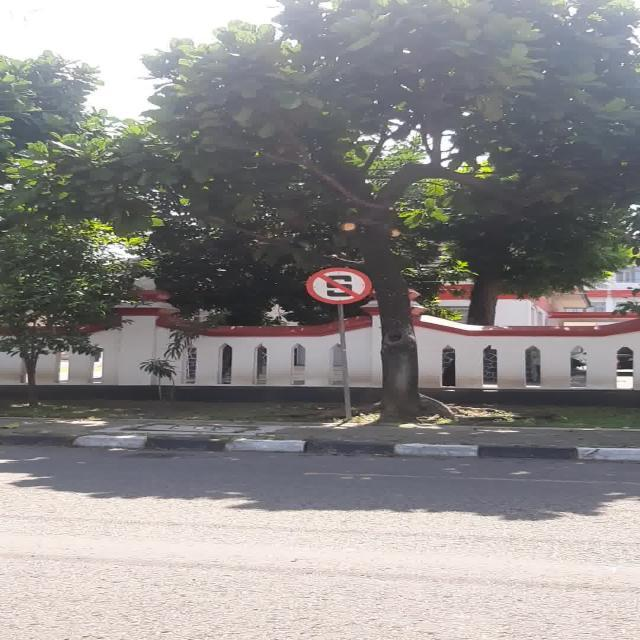Dilarang Berhenti: (306, 268, 372, 304)
